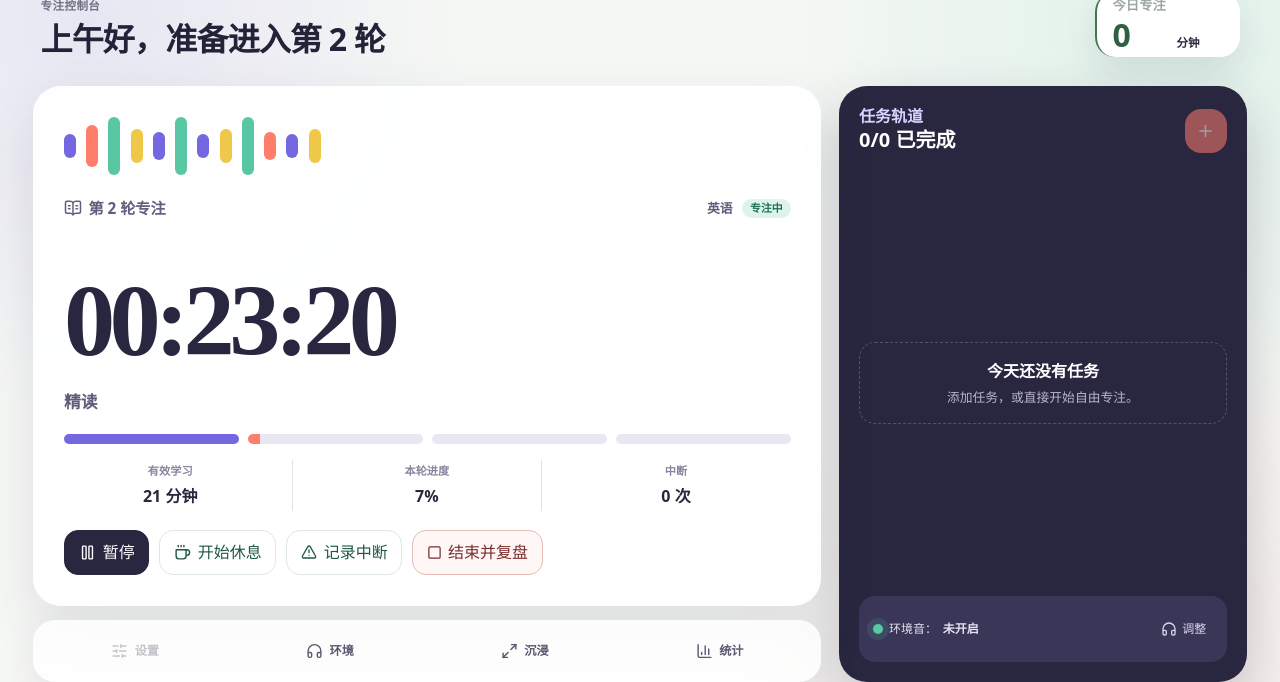
Test: retries a review once with the latest timer version after a conflict
(page scrolled)
Click the button "结束并复盘" at (478, 552), box [412, 530, 543, 575]
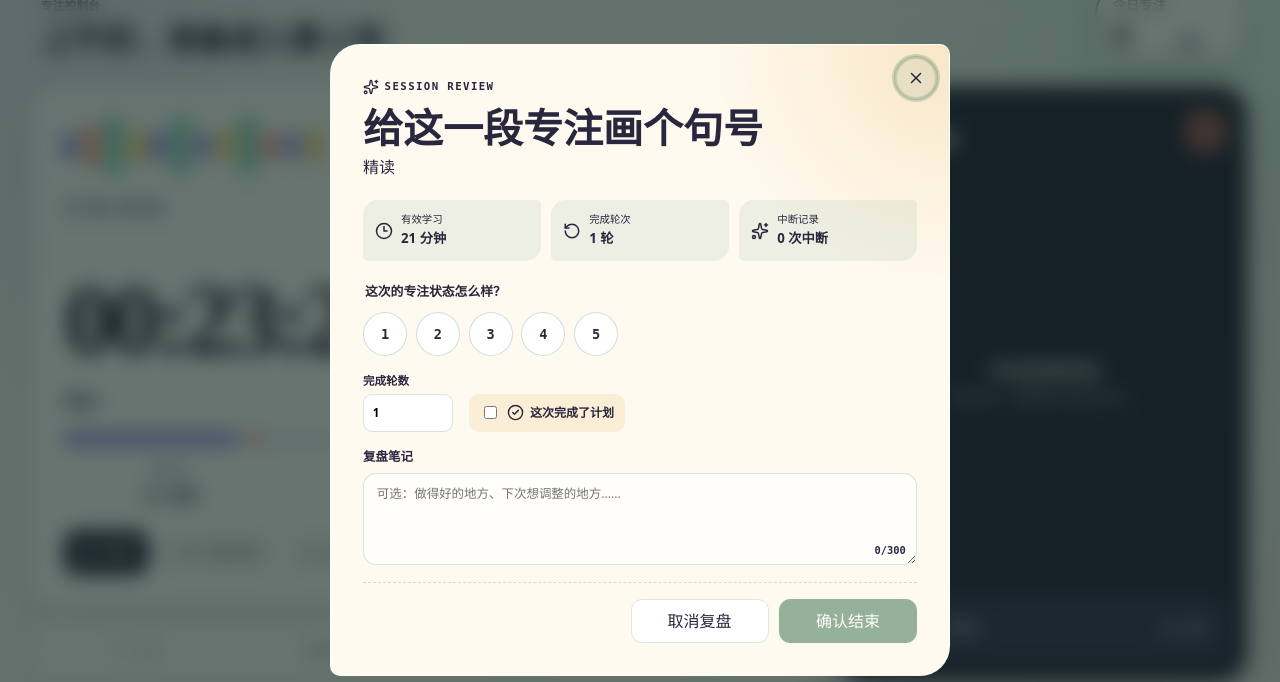
Click the radio button named "专注评分 4 分" at (543, 334), box [521, 312, 565, 356]
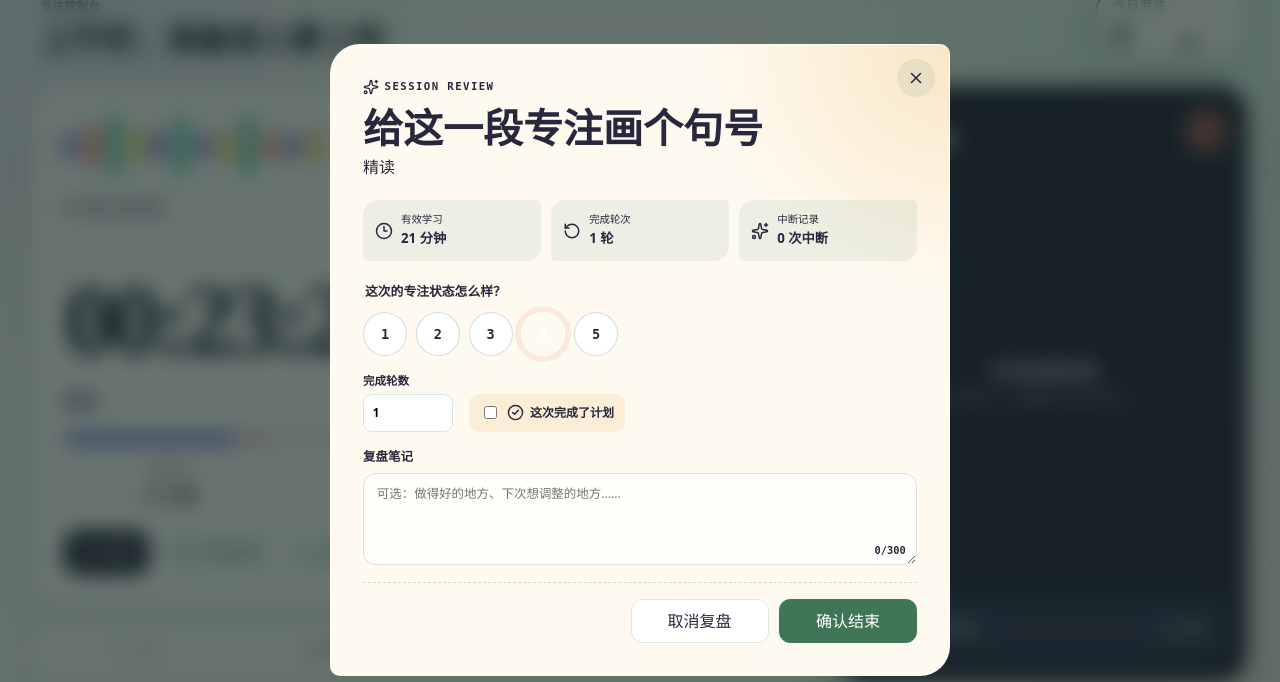
Click the button "确认结束" at (848, 621), box [779, 599, 917, 643]
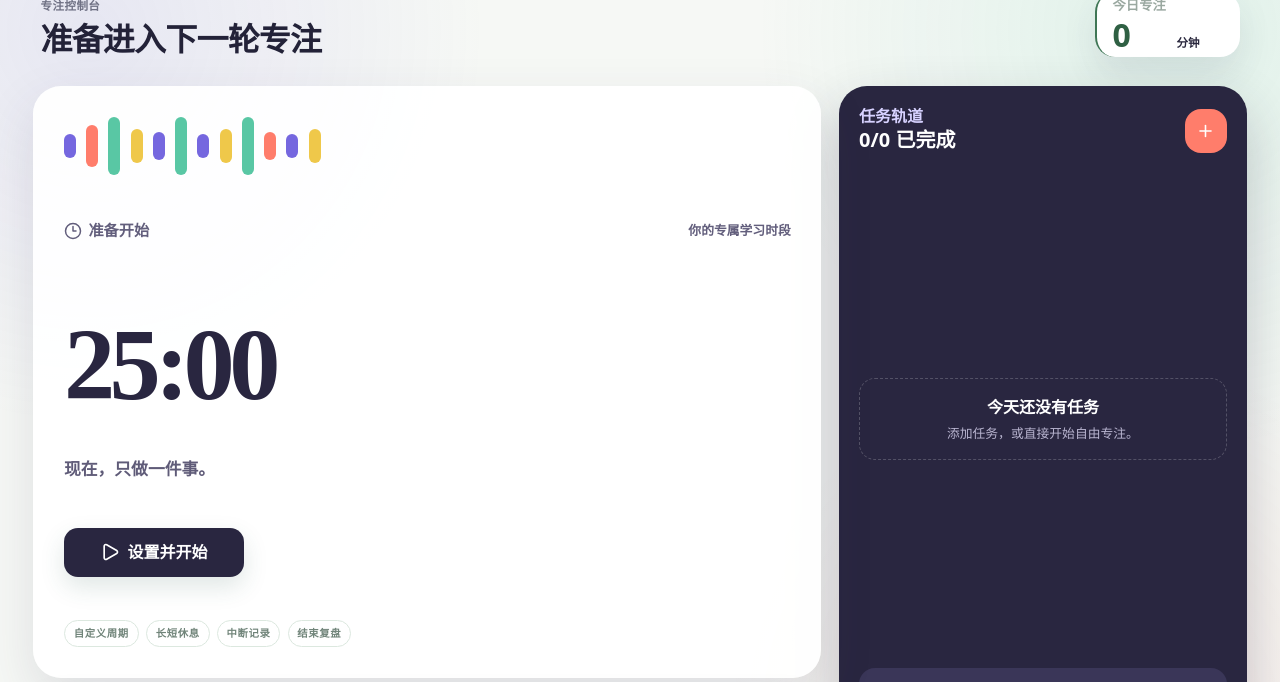
Expected: the heading "给这一段专注画个句号" is gone
